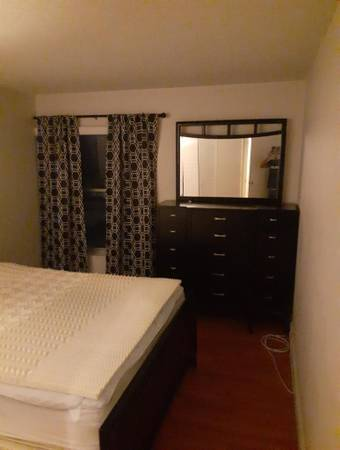bed: (1, 260, 200, 450)
dresser: (155, 200, 301, 336)
